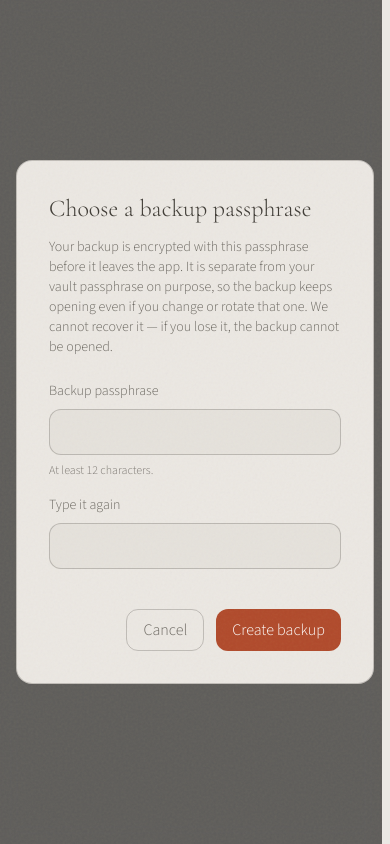
Test: BackupPassphraseModal — creating a backup › enforces the passphrase policy
Type "short" into the password field labelled "Backup passphrase".
click(195, 432); type("short")  # box [49,409,341,455]
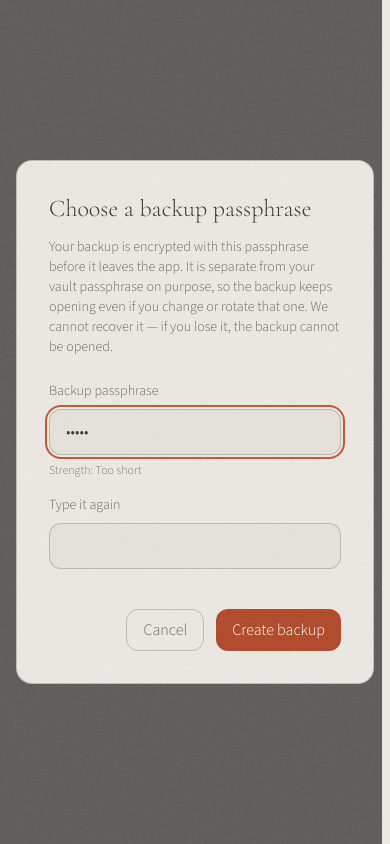
Click the button "Create backup".
click(279, 630)  # box [216,609,341,651]
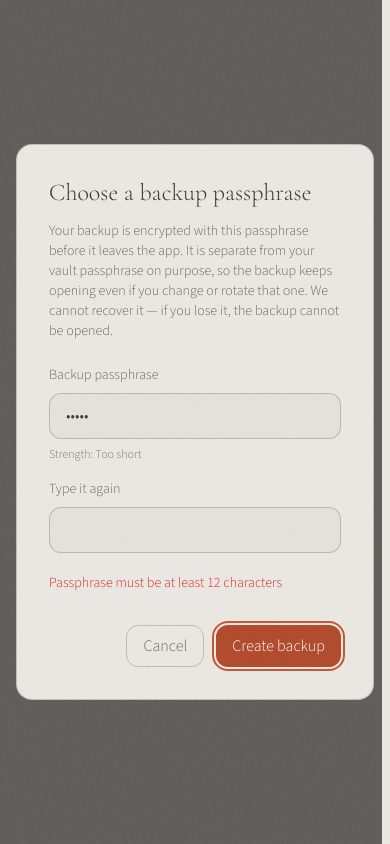
Result: the message "Passphrase must be at least 12 characters" is shown at [49,573,282,593]
